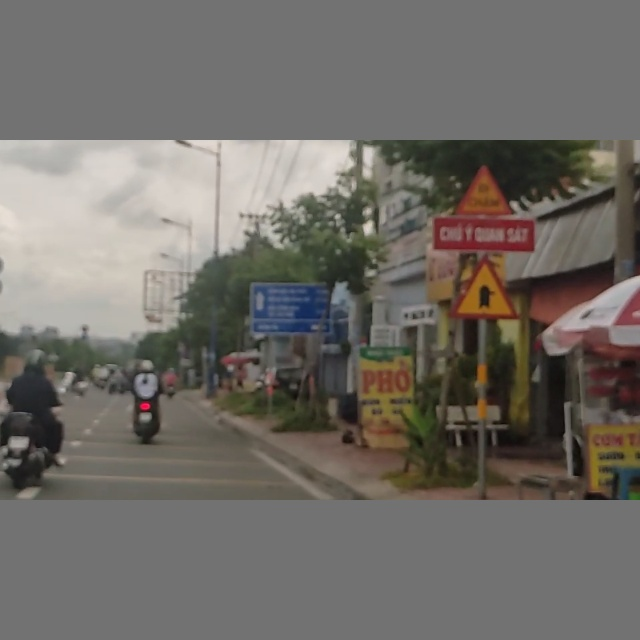W.207: (447, 256, 521, 320)
